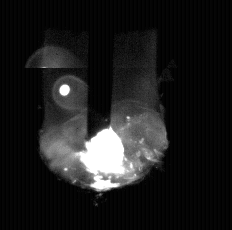arame: (88, 0, 111, 142)
poca: (36, 0, 169, 230)
